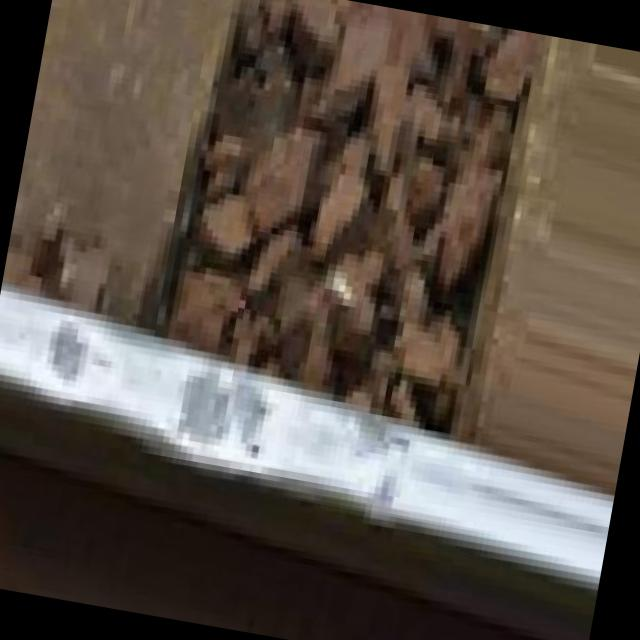defective: (0, 289, 479, 570)
